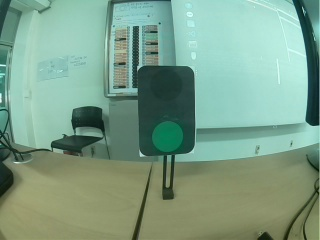green_light: (137, 61, 202, 160)
